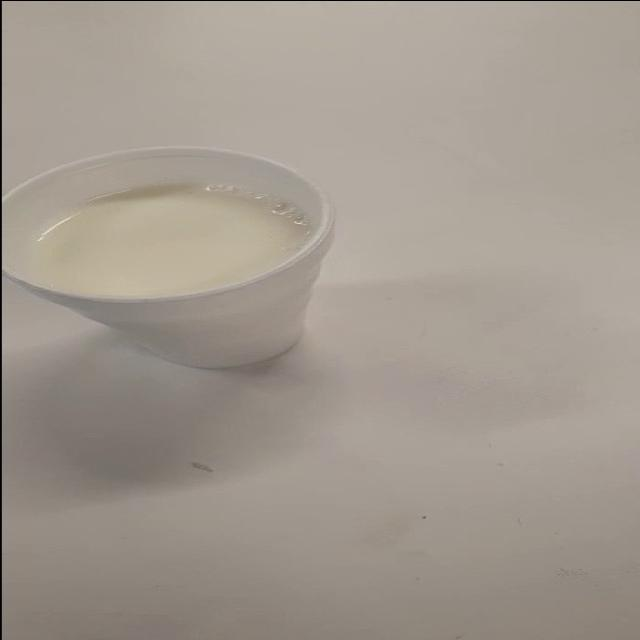Milk: (0, 126, 398, 376)
